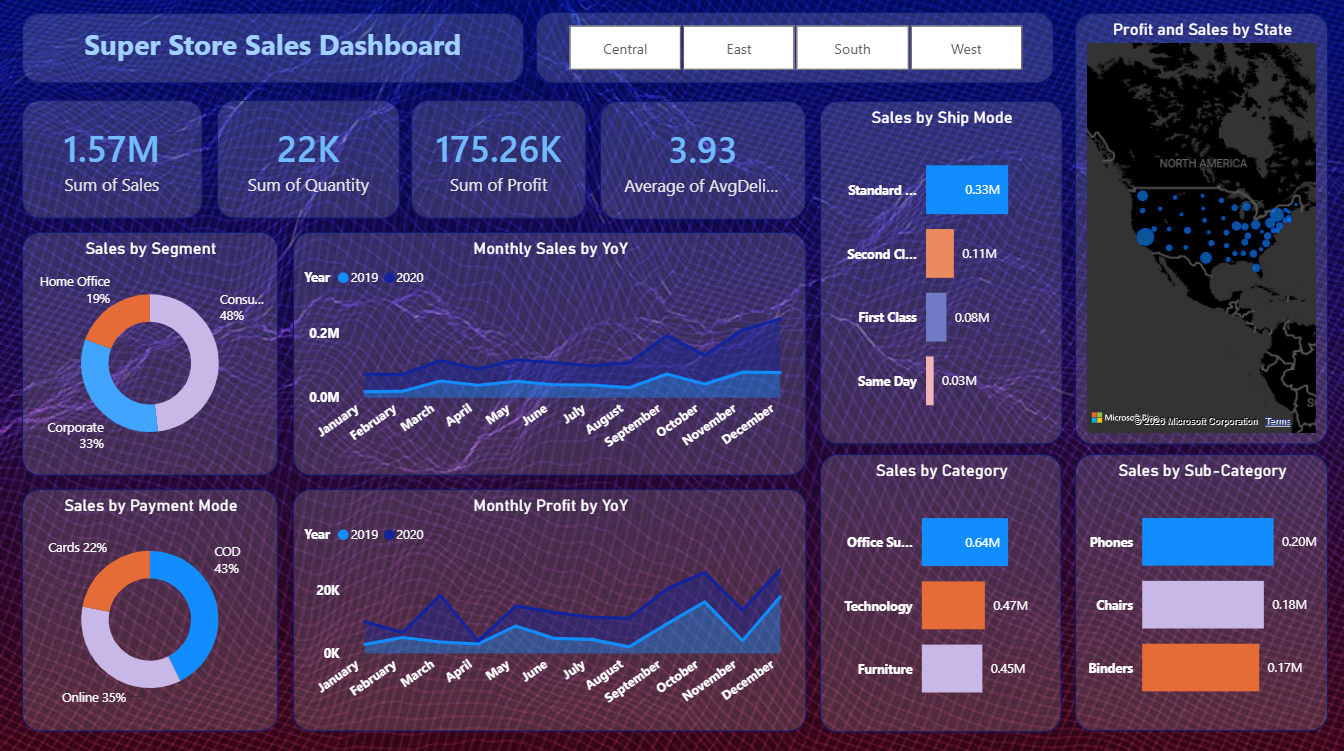

This screenshot's page, from the dashboard's own definition file:
{"tool":"powerbi","page":{"name":"Page 1","canvas":[1280,720],"ordinal":0},"visuals":[{"type":"clusteredBarChart","title":" Sales by Category","fields":{"Category":["Sheet1.Category"],"Y":["Sum(Sheet1.Sales)"]},"box":[781,435.2,230.5,264.8],"z":0},{"type":"clusteredBarChart","title":" Sales by Sub-Category","fields":{"Category":["Sheet1.Sub-Category"],"Y":["Sum(Sheet1.Sales)"]},"box":[1023.5,435.3,241.2,263.5],"z":1000},{"type":"clusteredBarChart","title":" Sales by Ship Mode","fields":{"Category":["Sheet1.Ship Mode"],"Y":["Sum(Sheet1.Sales)"]},"box":[781.2,98.8,230.6,327.1],"z":2000},{"type":"stackedAreaChart","title":"Monthly Sales by YoY","fields":{"Y":["Sum(Sheet1.Sales)"],"Category":["Sheet1.Order Date.Variation.Date Hierarchy.Month"],"Series":["Sheet1.Order Date.Variation.Date Hierarchy.Year"]},"box":[278.8,223.5,489.4,231.8],"z":3000},{"type":"stackedAreaChart","title":"Monthly Profit by YoY","fields":{"Category":["Sheet1.Order Date.Variation.Date Hierarchy.Month"],"Series":["Sheet1.Order Date.Variation.Date Hierarchy.Year"],"Y":["Sum(Sheet1.Profit)"]},"box":[278.8,468.2,489.4,230.6],"z":4000},{"type":"map","title":"Profit and Sales by State","fields":{"Category":["Sheet1.State"],"Size":["Sum(Sheet1.Sales)"]},"box":[1023.5,15.3,241.2,410.6],"z":5000},{"type":"donutChart","title":" Sales by Segment","fields":{"Category":["Sheet1.Segment"],"Y":["Sum(Sheet1.Sales)"]},"box":[21.2,223.5,243.5,231.8],"z":6000},{"type":"donutChart","title":" Sales by Payment Mode","fields":{"Category":["Sheet1.Payment Mode"],"Y":["Sum(Sheet1.Sales)"]},"box":[21.2,468.2,243.5,230.6],"z":7000},{"type":"slicer","fields":{"Values":["Sheet1.Region"]},"box":[510.6,14.1,492.9,68.2],"z":8000},{"type":"textbox","box":[21.2,15.3,477.6,67.1],"z":9000},{"type":"cardVisual","fields":{"Data":["Sum(Sheet1.Sales)"]},"box":[21.2,97.6,171.8,112.9],"z":10000},{"type":"cardVisual","fields":{"Data":["Sum(Sheet1.Quantity)"]},"box":[207.1,97.6,174.1,112.9],"z":11000},{"type":"cardVisual","fields":{"Data":["Sum(Sheet1.Profit)"]},"box":[391.8,97.6,167.1,112.9],"z":12000},{"type":"cardVisual","fields":{"Data":["Avg(Sheet1.AvgDelivery)"]},"box":[571.8,98.8,196.5,112.9],"z":13000}]}

Visuals, with their boxes in screenshot pixels (x1, y1, x2, y2), scaled from the page's 1280x720 canvas onto the 1344x751 screenshot:
" Sales by Category" clusteredBarChart: box(820, 454, 1062, 730)
" Sales by Sub-Category" clusteredBarChart: box(1075, 454, 1328, 729)
" Sales by Ship Mode" clusteredBarChart: box(820, 103, 1062, 444)
"Monthly Sales by YoY" stackedAreaChart: box(293, 233, 807, 475)
"Monthly Profit by YoY" stackedAreaChart: box(293, 488, 807, 729)
"Profit and Sales by State" map: box(1075, 16, 1328, 444)
" Sales by Segment" donutChart: box(22, 233, 278, 475)
" Sales by Payment Mode" donutChart: box(22, 488, 278, 729)
slicer - Sheet1.Region: box(536, 15, 1054, 86)
textbox: box(22, 16, 524, 86)
cardVisual - Sum(Sheet1.Sales): box(22, 102, 203, 220)
cardVisual - Sum(Sheet1.Quantity): box(217, 102, 400, 220)
cardVisual - Sum(Sheet1.Profit): box(411, 102, 587, 220)
cardVisual - Avg(Sheet1.AvgDelivery): box(600, 103, 807, 221)
